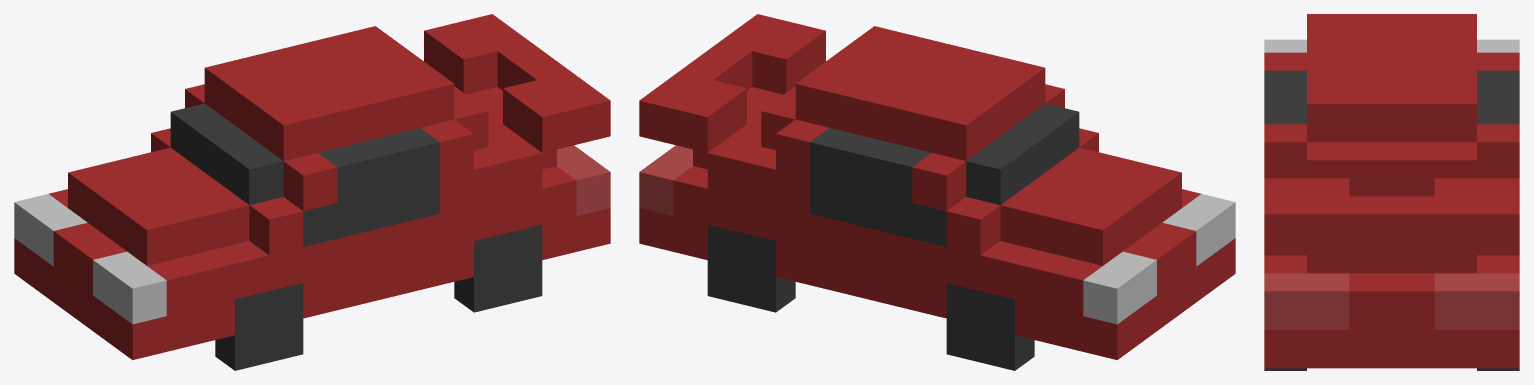
File: racer-v3-red.gltf
3 views of the same model, side by side, from view 1: azimuth 30°, elevation 25°; view 2: azimuth 150°, elevation 25°; view 3: azimuth 270°, elevation 25° (orthographic). The views are drawn at different scales.
Parts seen in each view (by area): view 1: model, wheels; view 2: model, wheels; view 3: model, wheels.
Boxes of the visible parts, x1,y1,x2,y2 form: model: (14,14,610,360); wheels: (215,224,542,370); model: (639,14,1235,360); wheels: (707,224,1034,370); model: (1264,14,1519,368); wheels: (1264,368,1519,370).
Size of the model in its own units: 1.4 by 0.6 by 0.6.
2 materials, 2 textured.
